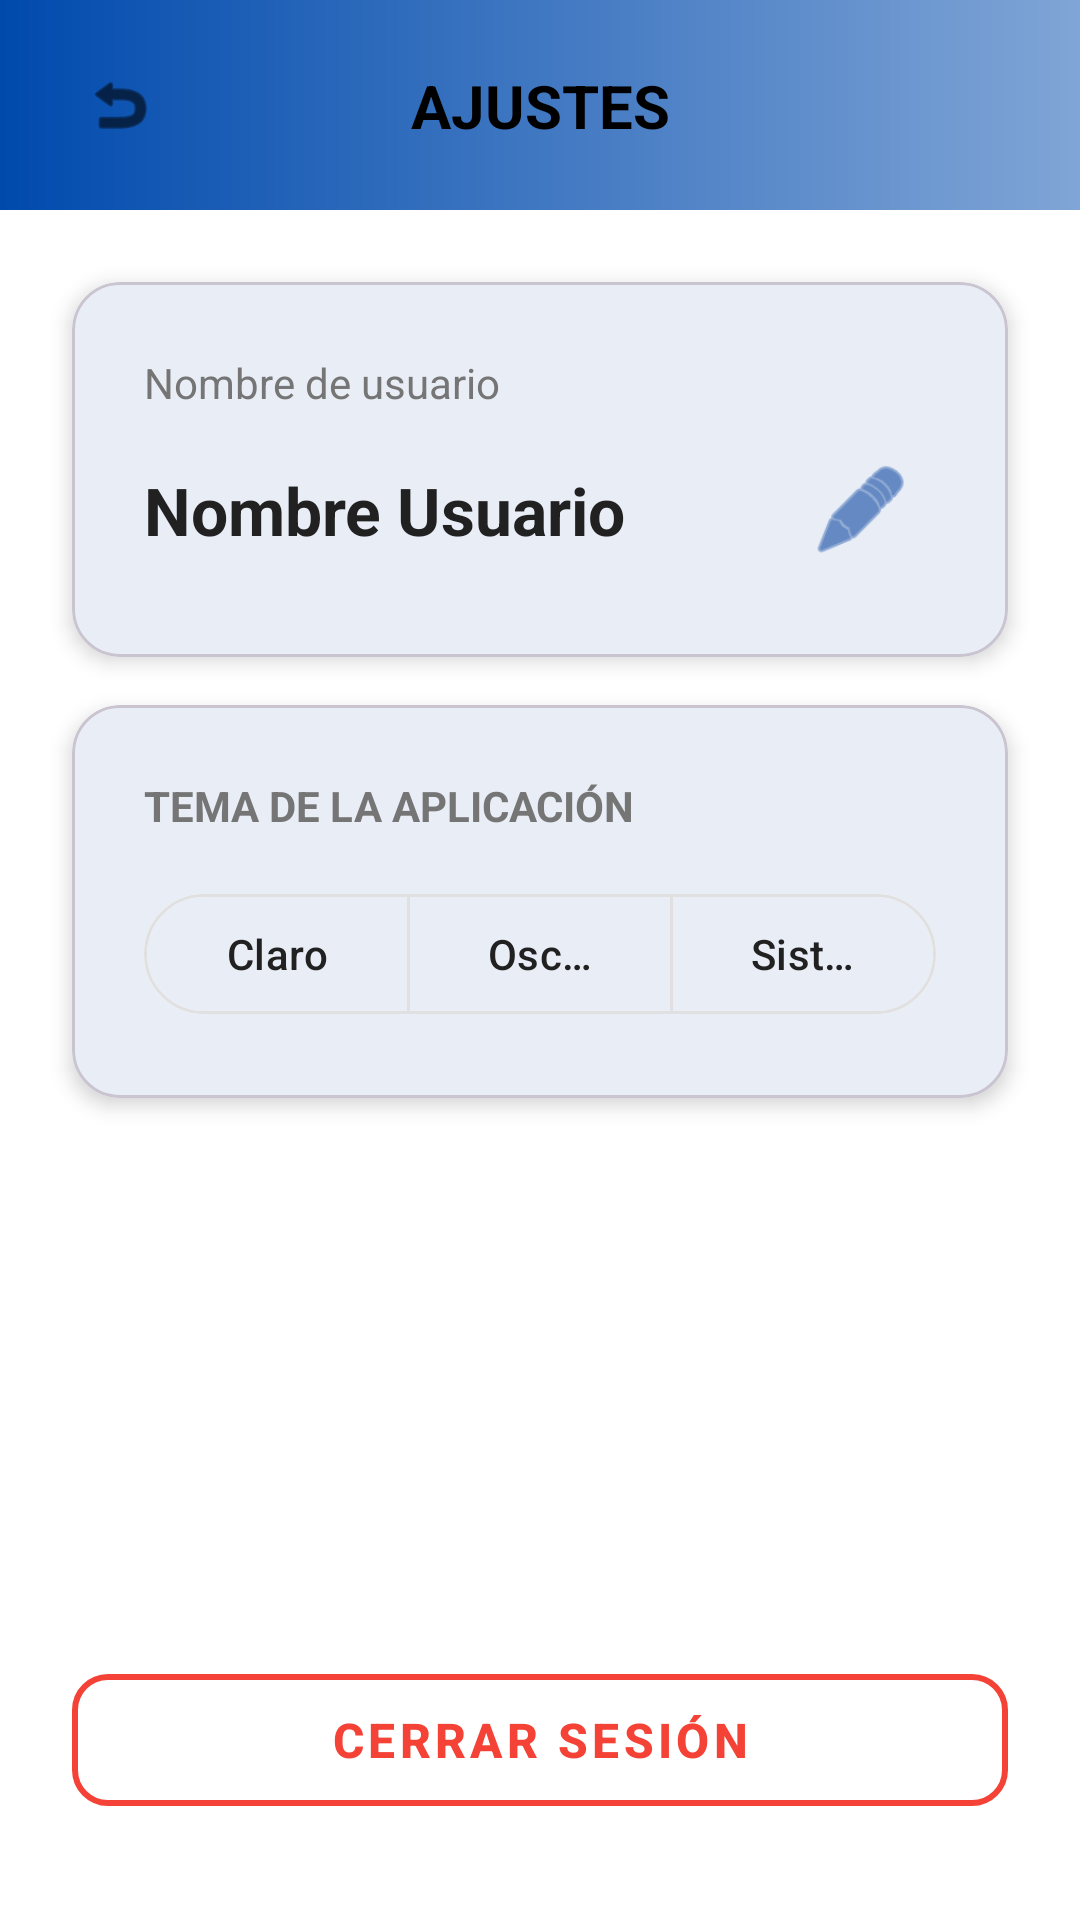

Screen size 1080*1920. Icon name, then its center in pixels as point (x, y):
Editar nombre: point (860, 509)
Volver atrás: point (121, 105)
